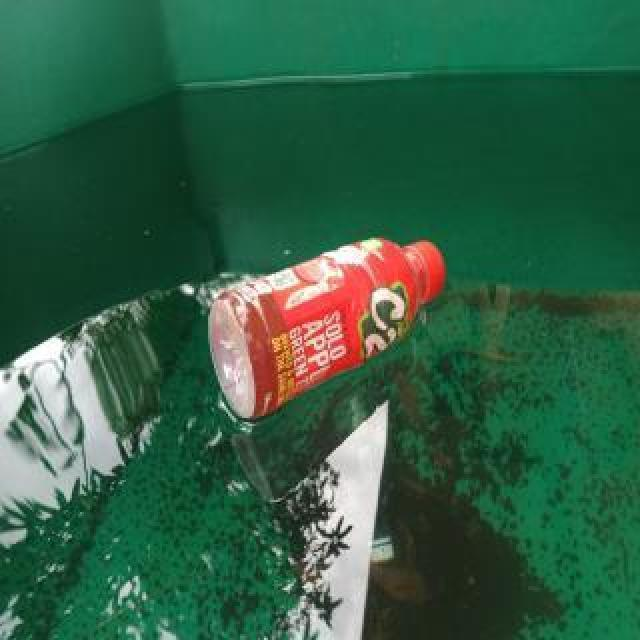bottle: (207, 233, 445, 421)
